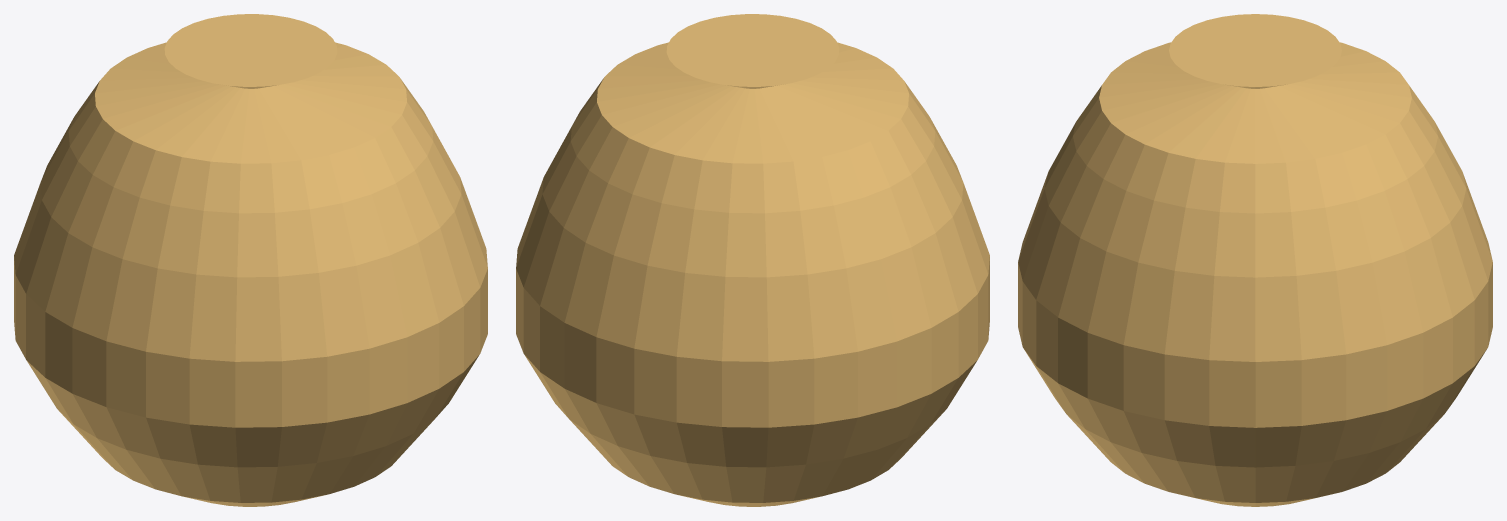
The model's file is Pickable.fbx.
3 renders of one model, left to right at view 1: azimuth 30°, elevation 25°; view 2: azimuth 150°, elevation 25°; view 3: azimuth 270°, elevation 25°, orthographic.
Parts seen in each view (by area): view 1: Cylinder; view 2: Cylinder; view 3: Cylinder.
Boxes of the visible parts, box(x1,y1,x2,y2) form: Cylinder: box(14, 14, 487, 506); Cylinder: box(516, 14, 989, 506); Cylinder: box(1018, 14, 1492, 506).
Size of the model in its own units: 58.79 by 57.21 by 58.79.
